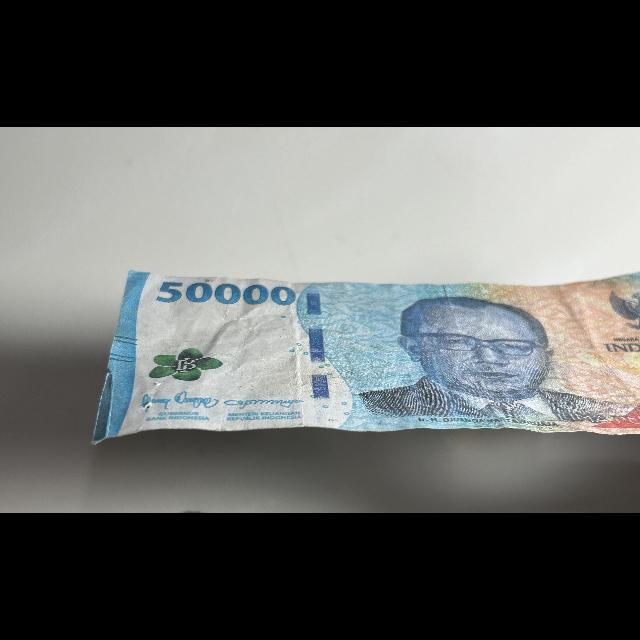Palsu-50k: (88, 268, 640, 449)
Tinta-Palsu-50k: (144, 343, 229, 386)
